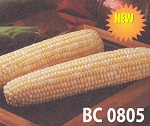corn: (1, 44, 149, 111), (2, 27, 100, 83)
